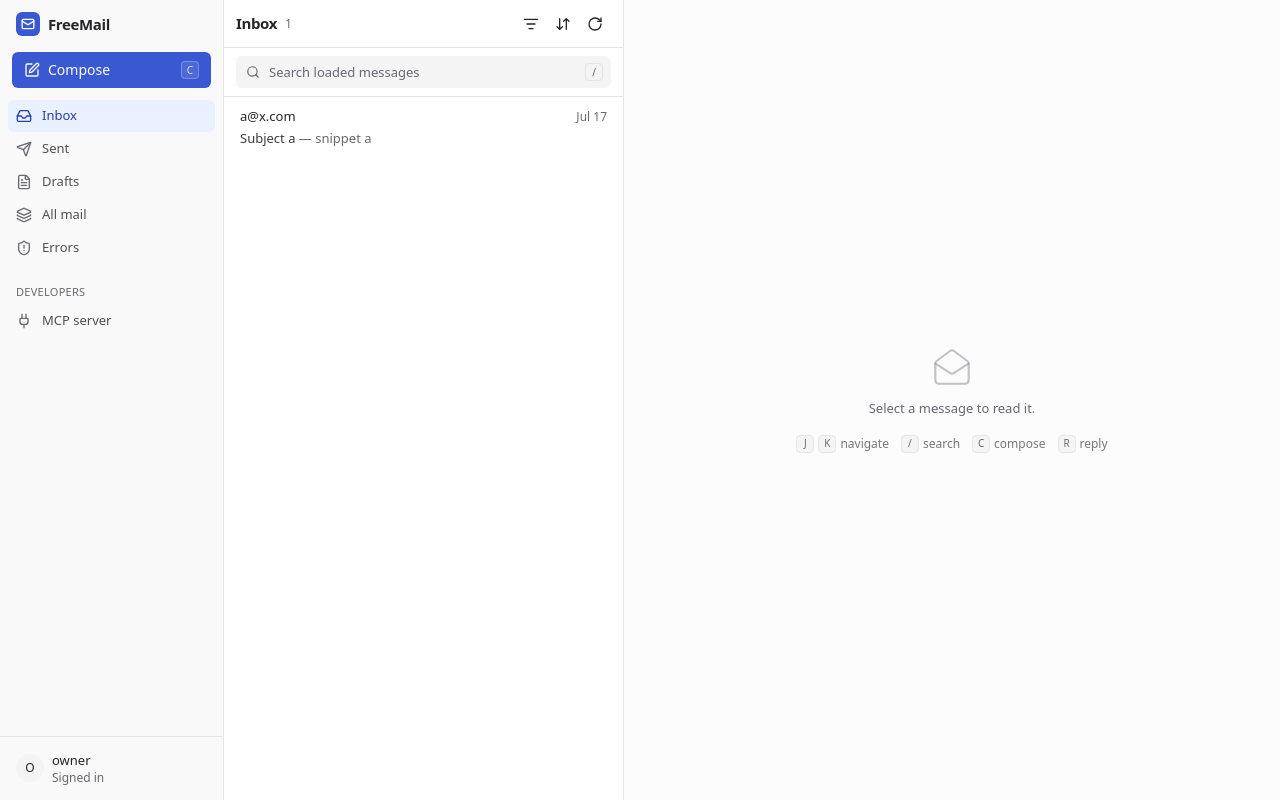
Scenario: AppShell — refresh › does not leave Refresh stuck when the folder changes mid-refresh
Expected: the text "Subject a" is shown, [240,128,296,146]
What coordinates should you click on to do the following:
click the button named "Refresh"
I would click on:
 (595, 24)
Its box is [579,8,611,40].
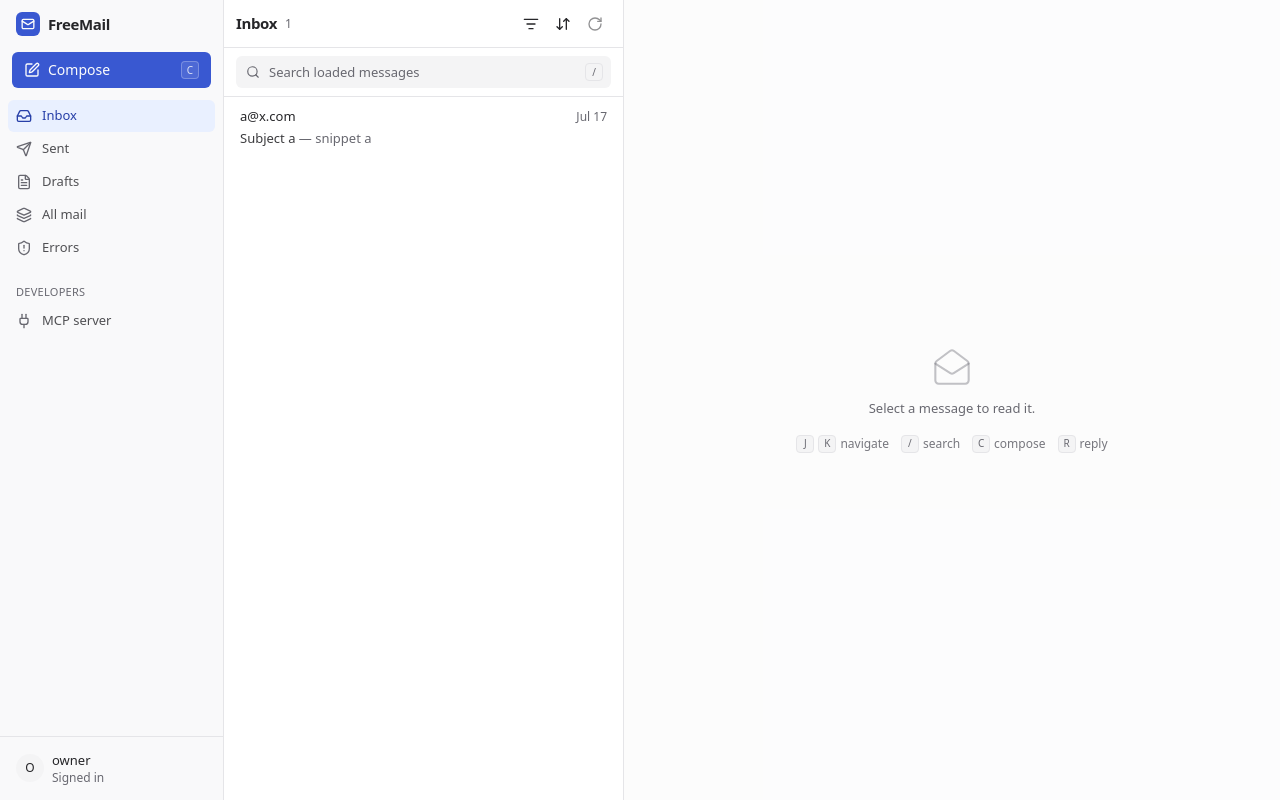
Now the button named "Refresh" is disabled, box [579,8,611,40]
What coordinates should you click on to do the following:
click the button "Sent"
I would click on:
 (112, 149)
Its box is [8,133,215,165].
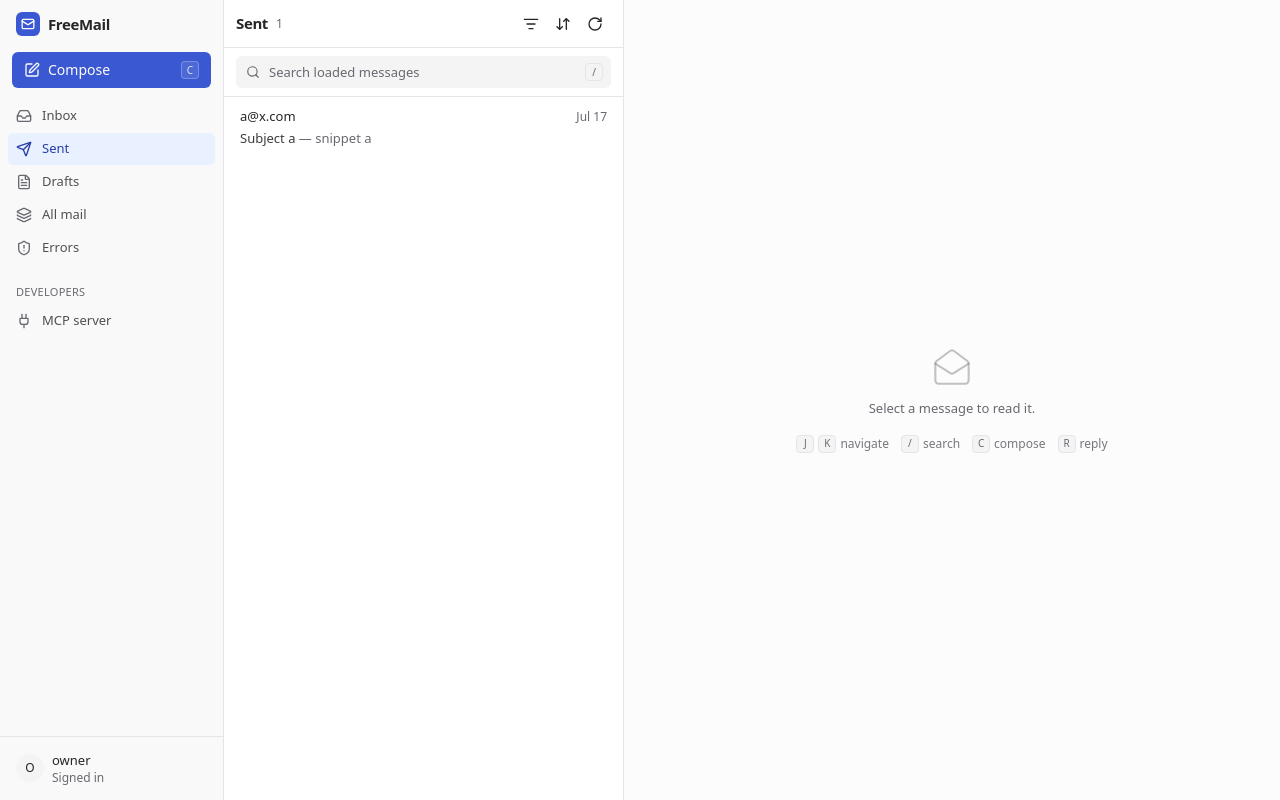
Now the heading "Sent" is shown, box [236,12,268,35]
Now the button named "Refresh" is enabled, box [579,8,611,40]
